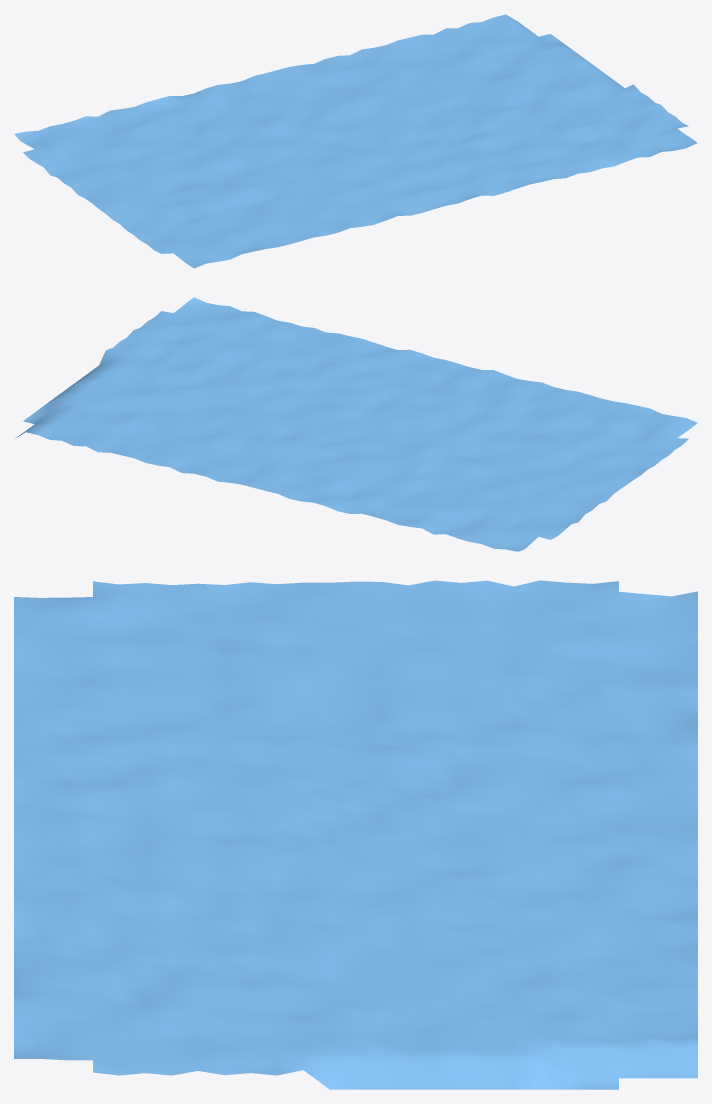
File: water.fbx
3 renders of one model, top to bottom at view 1: azimuth 30°, elevation 25°; view 2: azimuth 150°, elevation 25°; view 3: azimuth 270°, elevation 25°, orthographic. The views are drawn at different scales.
Parts seen in each view (by area): view 1: water1; view 2: water1; view 3: water1.
Part boxes in pixels (<box>): water1: <box>14,14,697,268</box>; water1: <box>15,297,697,551</box>; water1: <box>14,580,697,1089</box>.
Size of the model in its own units: 6.22 by 0.1199 by 3.68.
